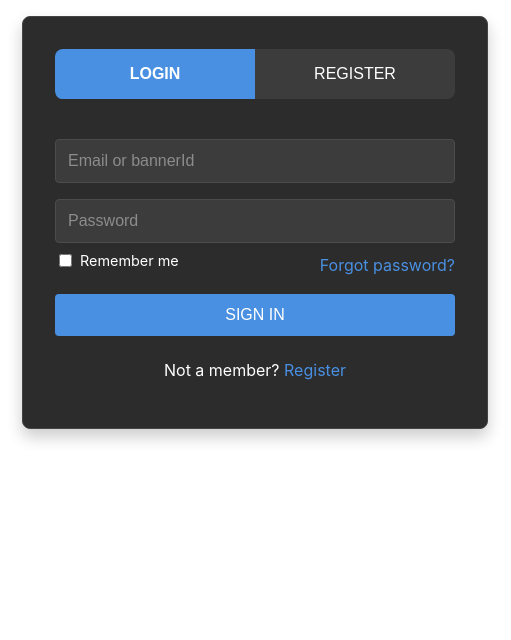
Test case: LoginRegisterPage › switches to the registration form when the register button is clicked
Step 1. Click the button "REGISTER" → coordinates (355, 74), box [255,49,455,99]
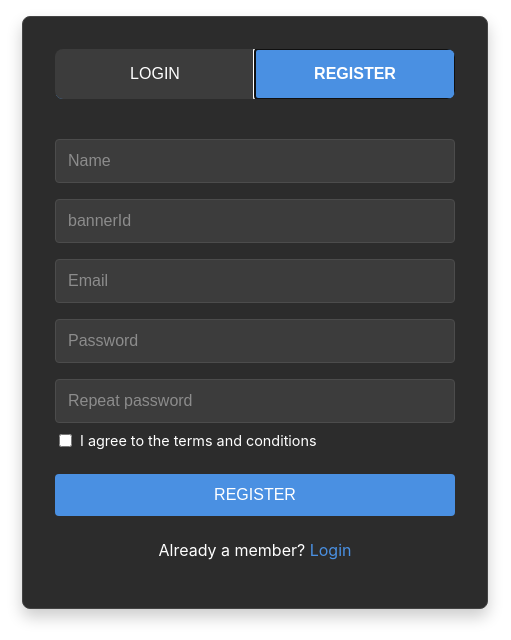
Expected: the field with placeholder "Name" is shown, [55,139,455,183]
